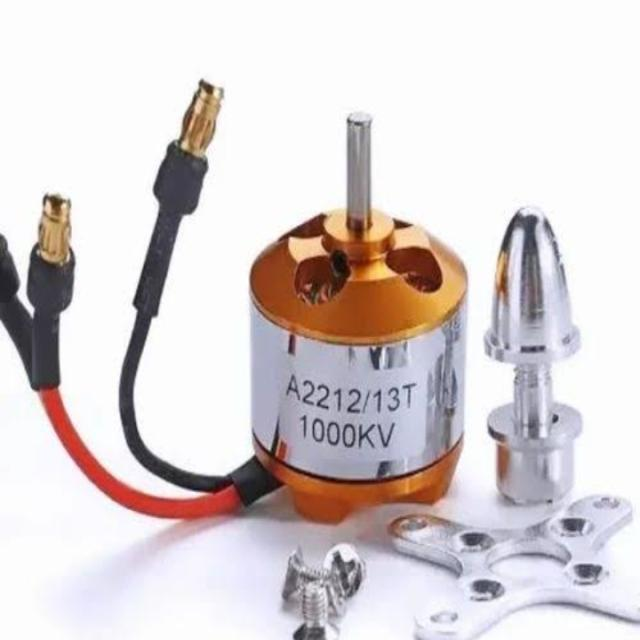motor: (248, 114, 466, 523)
